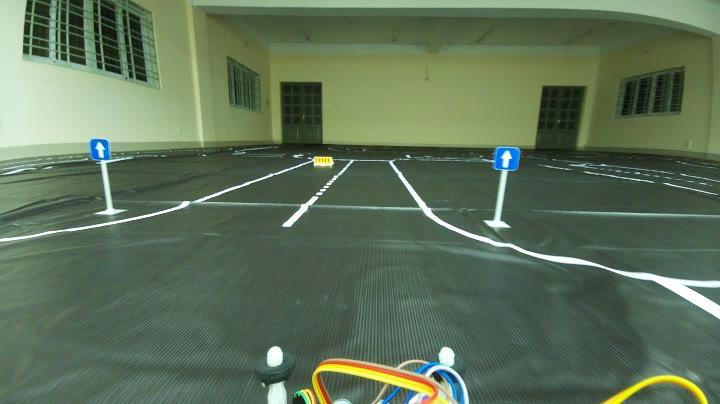onewayroad: (498, 144, 524, 172), (89, 139, 114, 162)
roadblock: (310, 152, 336, 169)
